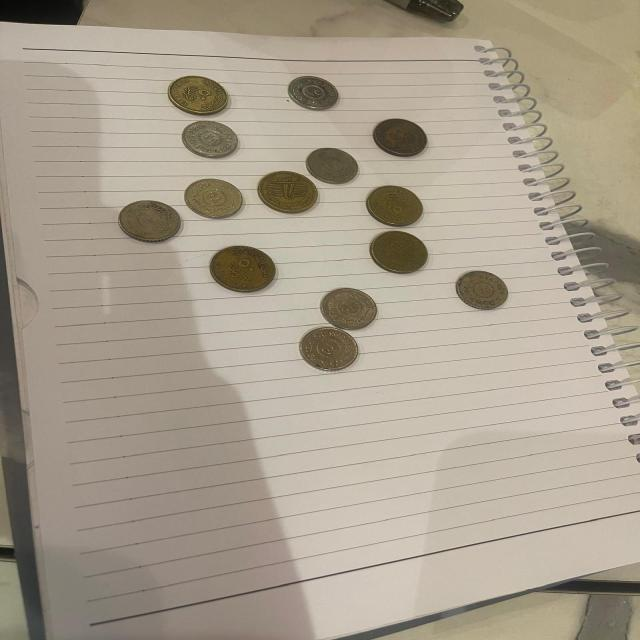Half Pound: (205, 246, 280, 292), (258, 170, 320, 214), (370, 230, 430, 274), (167, 75, 229, 116), (366, 185, 425, 227), (373, 118, 429, 157)
quarter pound: (298, 327, 360, 373), (118, 200, 182, 243), (185, 178, 245, 220), (322, 287, 378, 329), (181, 120, 239, 160), (455, 270, 510, 310), (306, 147, 360, 185), (288, 75, 340, 111)
